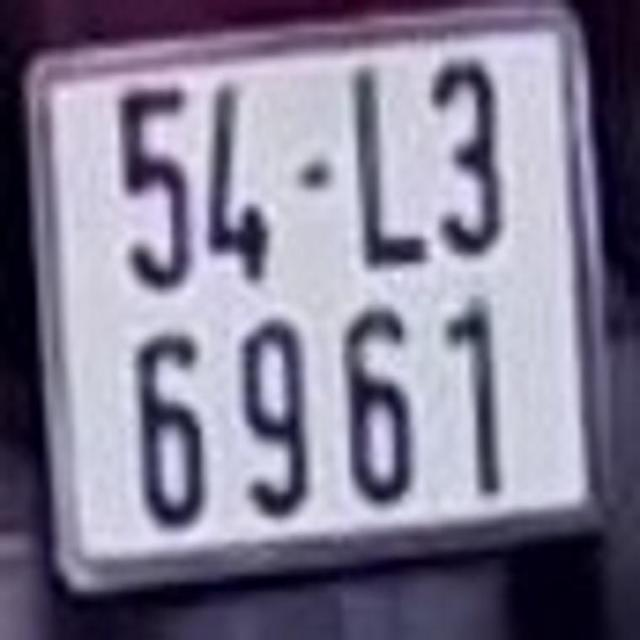1: (440, 288, 516, 496)
3: (434, 56, 508, 259)
4: (203, 74, 280, 281)
5: (111, 79, 196, 300)
6: (334, 297, 420, 506), (131, 329, 208, 529)
9: (234, 307, 314, 520)
L: (339, 61, 432, 274)
